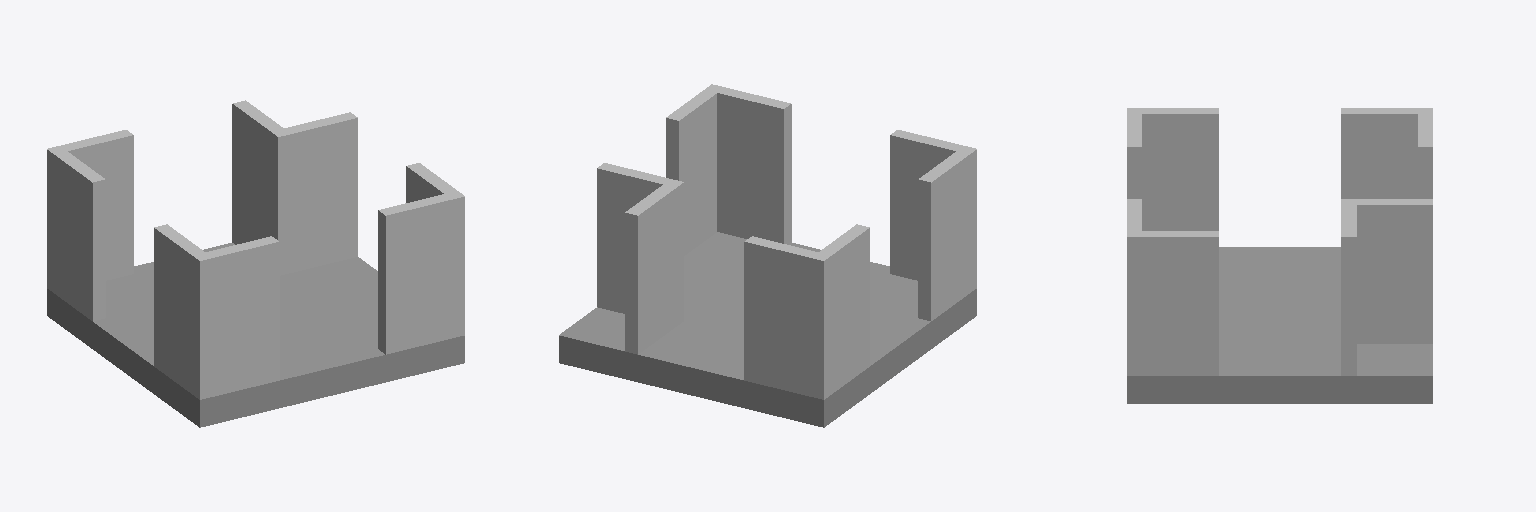
File: hybrid-intersection_1.obj
3 renders of one model, left to right at view 1: azimuth 30°, elevation 25°; view 2: azimuth 150°, elevation 25°; view 3: azimuth 270°, elevation 25°, orthographic.
Visible parts, largest first — view 1: Cube, Cube.007_Cube.008, Cube.001, Cube.002_Cube.007, Cube.006_Cube.002, Cube.008_Cube.009, Cube.005, Cube.003, Cube.004; view 2: Cube, Cube.007_Cube.008, Cube.003, Cube.008_Cube.009, Cube.005, Cube.006_Cube.002, Cube.004, Cube.001, Cube.002_Cube.007; view 3: Cube, Cube.004, Cube.005, Cube.008_Cube.009, Cube.006_Cube.002, Cube.001, Cube.007_Cube.008, Cube.002_Cube.007, Cube.003.
Part boxes in pixels (left/top/right/bottom): Cube: left=47, top=243, right=464, bottom=427; Cube.007_Cube.008: left=378, top=191, right=464, bottom=354; Cube.001: left=271, top=112, right=357, bottom=275; Cube.002_Cube.007: left=192, top=236, right=279, bottom=399; Cube.006_Cube.002: left=47, top=146, right=105, bottom=320; Cube.008_Cube.009: left=154, top=224, right=212, bottom=399; Cube.005: left=232, top=100, right=291, bottom=274; Cube.003: left=47, top=130, right=133, bottom=282; Cube.004: left=406, top=163, right=464, bottom=337; Cube: left=559, top=232, right=976, bottom=427; Cube.007_Cube.008: left=705, top=84, right=791, bottom=244; Cube.003: left=744, top=236, right=831, bottom=399; Cube.008_Cube.009: left=918, top=146, right=976, bottom=320; Cube.005: left=625, top=181, right=683, bottom=354; Cube.006_Cube.002: left=811, top=224, right=869, bottom=399; Cube.004: left=666, top=86, right=724, bottom=255; Cube.001: left=597, top=163, right=683, bottom=325; Cube.002_Cube.007: left=890, top=130, right=976, bottom=280; Cube: left=1127, top=247, right=1432, bottom=403; Cube.004: left=1127, top=231, right=1218, bottom=375; Cube.005: left=1341, top=199, right=1432, bottom=343; Cube.008_Cube.009: left=1127, top=108, right=1218, bottom=230; Cube.006_Cube.002: left=1341, top=108, right=1432, bottom=198; Cube.001: left=1341, top=199, right=1356, bottom=375; Cube.007_Cube.008: left=1127, top=199, right=1141, bottom=375; Cube.002_Cube.007: left=1127, top=108, right=1141, bottom=198; Cube.003: left=1418, top=108, right=1432, bottom=198.
Size of the model in its own units: 10 by 6 by 10.